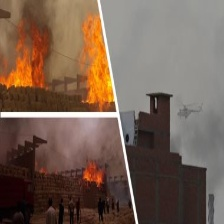fire: (76, 13, 116, 105), (3, 14, 46, 86), (80, 160, 108, 185)
smoke: (164, 28, 224, 151), (2, 120, 129, 166), (23, 3, 55, 32)
